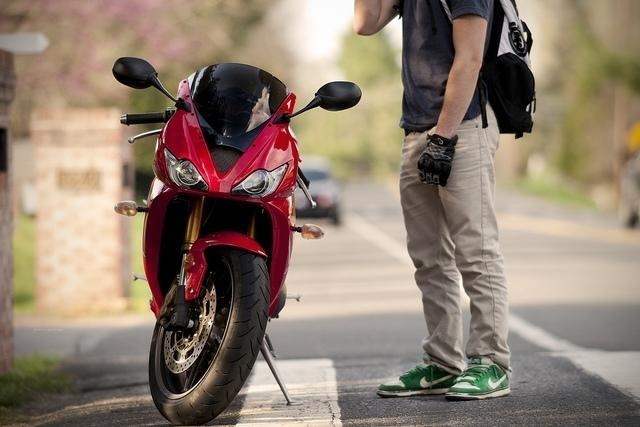car: (296, 158, 339, 223)
motorcycle: (110, 56, 361, 414)
